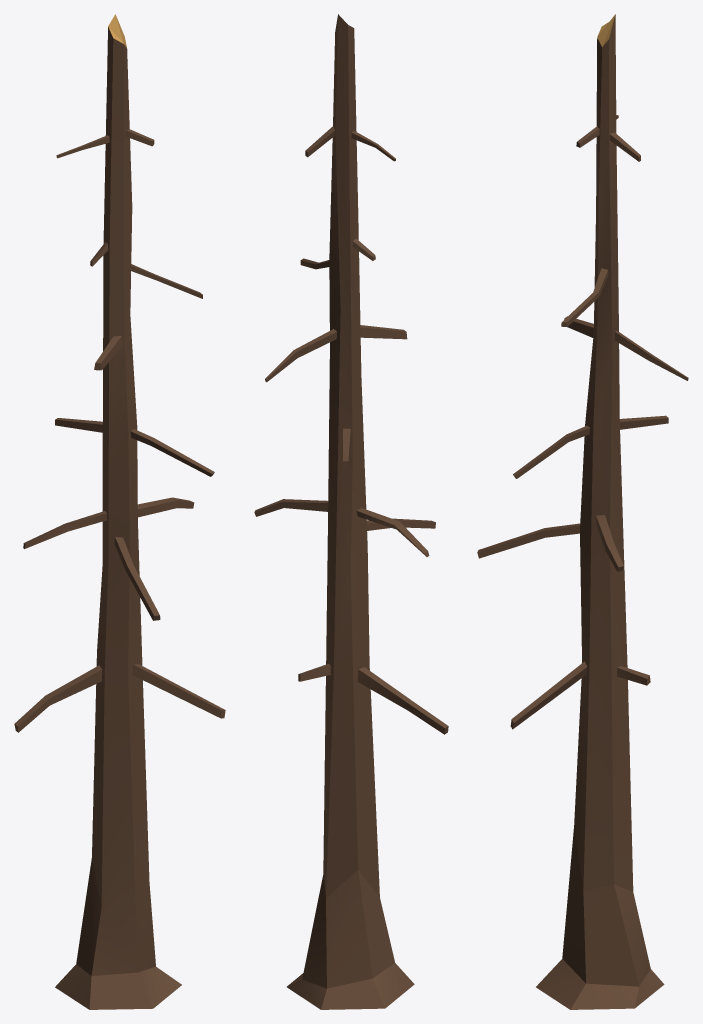
The model's file is FirBrokenC.fbx.
3 renders of one model, left to right at view 1: azimuth 30°, elevation 25°; view 2: azimuth 150°, elevation 25°; view 3: azimuth 270°, elevation 25°, orthographic.
Parts seen in each view (by area): view 1: FirBrokenC; view 2: FirBrokenC; view 3: FirBrokenC.
Part boxes in pixels (x1=…): FirBrokenC: x1=14, y1=14, x2=225, y2=1009; FirBrokenC: x1=254, y1=14, x2=448, y2=1009; FirBrokenC: x1=477, y1=14, x2=688, y2=1009.
Bounding box in the file's own units: 459 × 2304 × 453.
